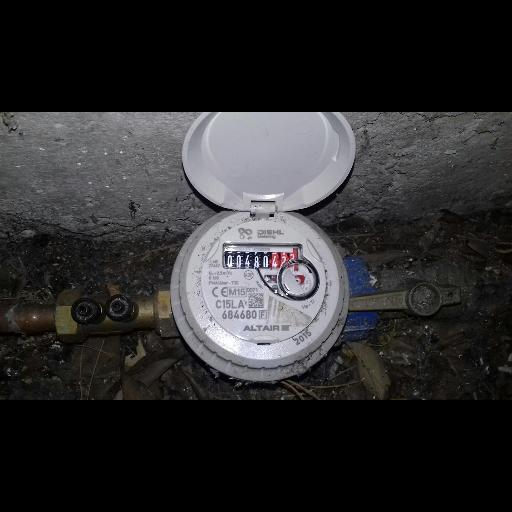0: (227, 251, 236, 269), (235, 251, 244, 269), (261, 252, 270, 269)
2: (280, 253, 289, 268), (288, 253, 299, 264)
4: (244, 251, 253, 269), (271, 252, 280, 268)
8: (253, 252, 262, 269)
border_water_meter_number: (223, 243, 303, 269)
